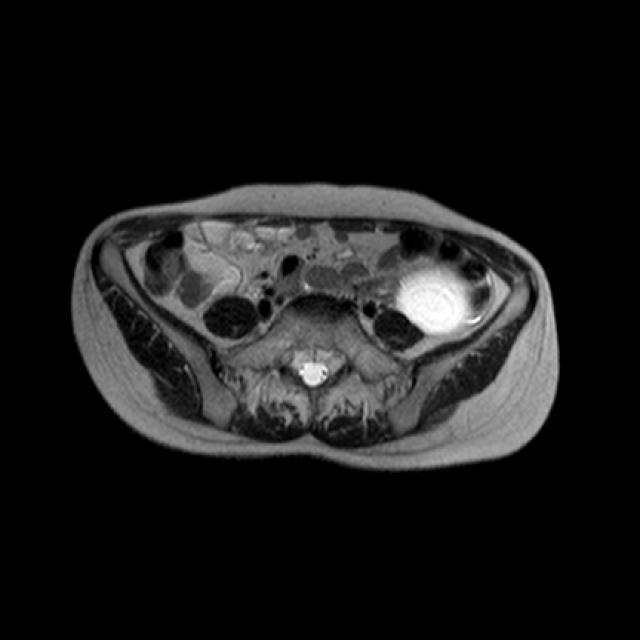sol: (390, 268, 472, 340)
